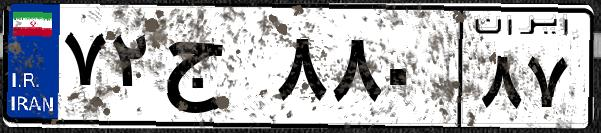0: (385, 28, 445, 110)
2: (110, 28, 158, 98)
7: (57, 26, 110, 100), (525, 38, 570, 115)
8: (270, 28, 330, 110), (330, 28, 385, 110), (475, 38, 525, 113)
ج: (158, 20, 270, 120)
